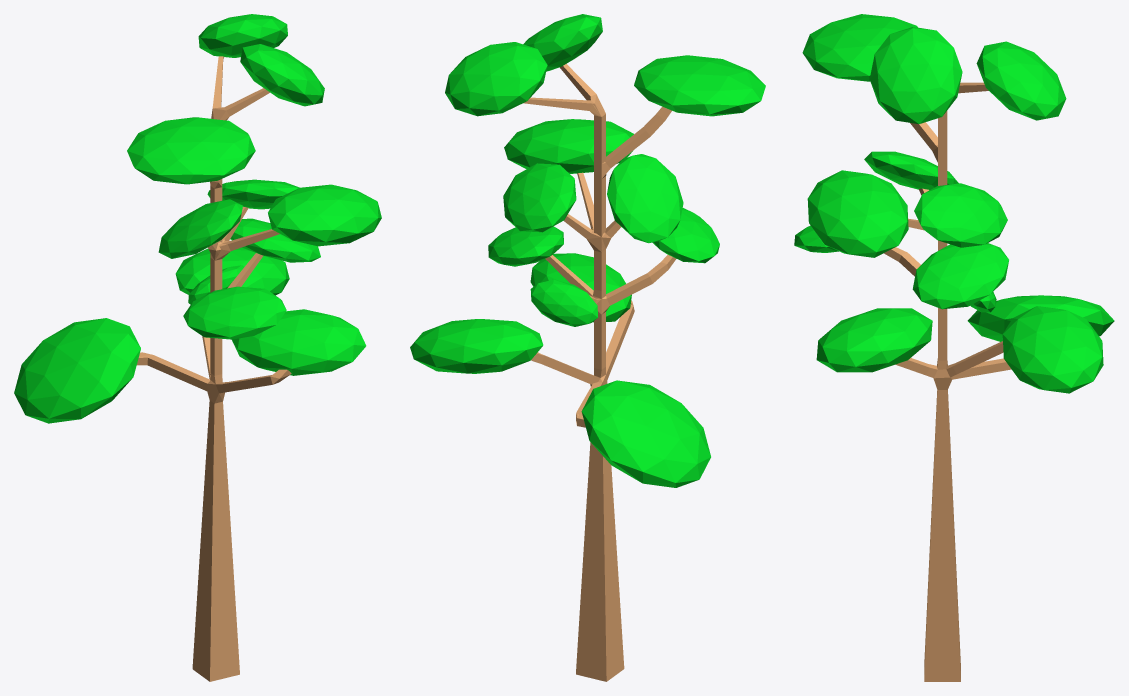
File: Tree_1.fbx
3 views of the same model, side by side, from view 1: azimuth 30°, elevation 25°; view 2: azimuth 150°, elevation 25°; view 3: azimuth 270°, elevation 25° (orthographic). The views are drawn at different scales.
Parts seen in each view (by area): view 1: Cube.001, Icosphere.005, Icosphere.014, Icosphere.007, Icosphere.010, Icosphere.008, Icosphere.013, Icosphere.009, Icosphere.015, Icosphere.006, Icosphere.011, Icosphere.016 (+1 smaller); view 2: Cube.001, Icosphere.005, Icosphere.014, Icosphere.006, Icosphere.015, Icosphere.009, Icosphere.010, Icosphere.016, Icosphere.013, Icosphere.012, Icosphere.011, Icosphere.007 (+1 smaller); view 3: Cube.001, Icosphere.013, Icosphere.010, Icosphere.006, Icosphere.007, Icosphere.011, Icosphere.015, Icosphere.016, Icosphere.014, Icosphere.005, Icosphere.009, Icosphere.008.
Part boxes in pixels (x1,y1,x2,y2): Cube.001: (137,56,291,681); Icosphere.005: (14,318,140,423); Icosphere.014: (127,117,255,184); Icosphere.007: (232,309,366,375); Icosphere.010: (268,184,381,246); Icosphere.008: (183,286,286,339); Icosphere.013: (240,44,324,106); Icosphere.009: (158,199,242,258); Icosphere.015: (198,14,287,57); Icosphere.006: (175,247,289,295); Icosphere.011: (230,218,320,262); Icosphere.016: (207,179,299,209); Cube.001: (523,64,676,681); Icosphere.005: (581,380,710,487); Icosphere.014: (634,55,765,116); Icosphere.006: (410,319,543,373); Icosphere.015: (445,42,547,116); Icosphere.009: (607,154,683,243); Icosphere.010: (504,119,633,173); Icosphere.016: (503,163,576,232); Icosphere.013: (523,14,602,71); Icosphere.012: (530,279,597,326); Icosphere.011: (488,226,563,266); Icosphere.007: (530,253,631,322); Cube.001: (884,82,1011,681); Icosphere.013: (869,27,962,123); Icosphere.010: (807,170,908,257); Icosphere.006: (1002,306,1103,393); Icosphere.007: (816,308,932,372); Icosphere.011: (912,243,1008,309); Icosphere.015: (976,41,1066,120); Icosphere.016: (914,183,1007,247); Icosphere.014: (802,14,917,81); Icosphere.005: (967,295,1114,341); Icosphere.009: (864,151,958,190); Icosphere.008: (794,225,838,252).
Size of the model in its own units: 447 by 989 by 435.
